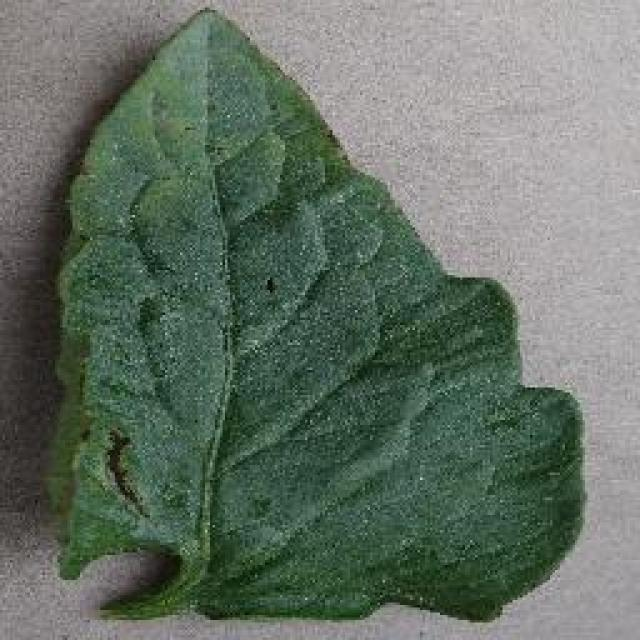bacterial spot: (43, 0, 588, 624)
